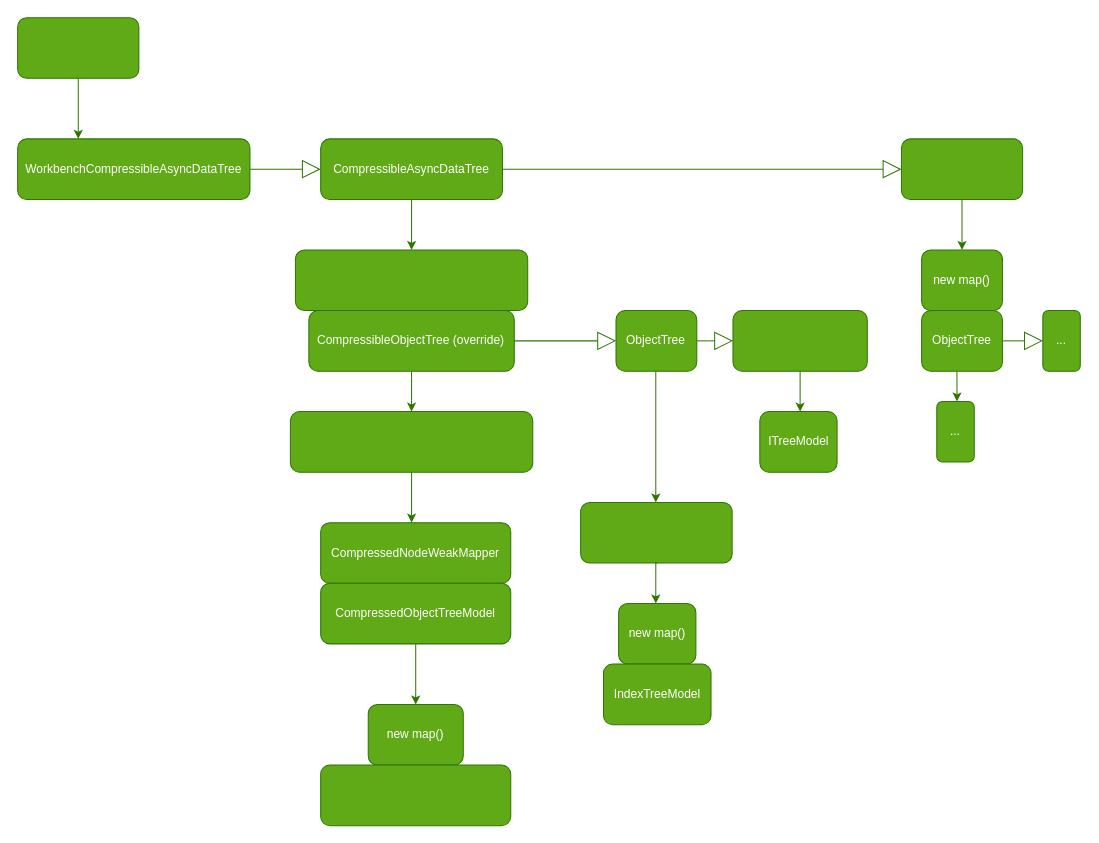
Image size: 1099x843. Some labels were removed from this diagram. The shapes that lost their labels are listed below. From the top down, each one's centre as x and y in pixels, then its label:
At point (78, 47): "ExplorerView".
At point (961, 168): "AsyncDataTree".
At point (411, 280): "CompressibleAsyncDataTreeNodeMapper".
At point (799, 340): "AbstractTree (abstract)".
At point (411, 441): "CompressibleObjectTreeModel (override)".
At point (656, 532): "ObjectTreeModel (override)".
At point (415, 795): "ObjectTreeModel".
